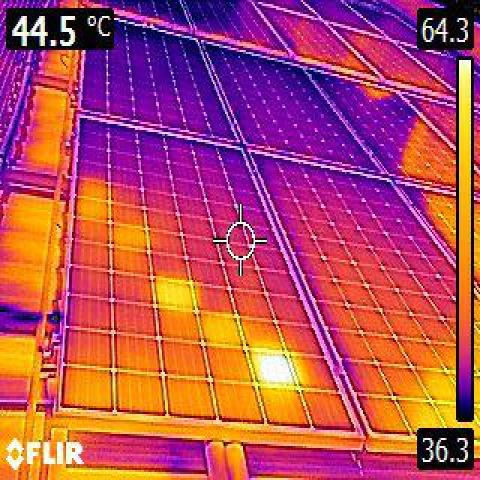fault: (252, 352, 294, 385), (160, 279, 196, 306)
